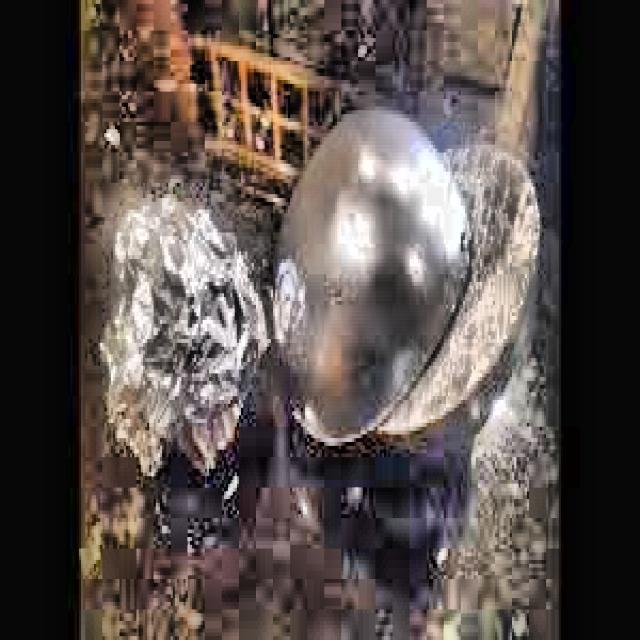Foil: (102, 200, 266, 480)
